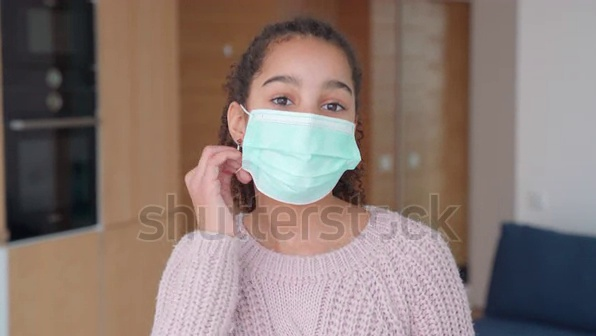Mask: (229, 108, 371, 211)
